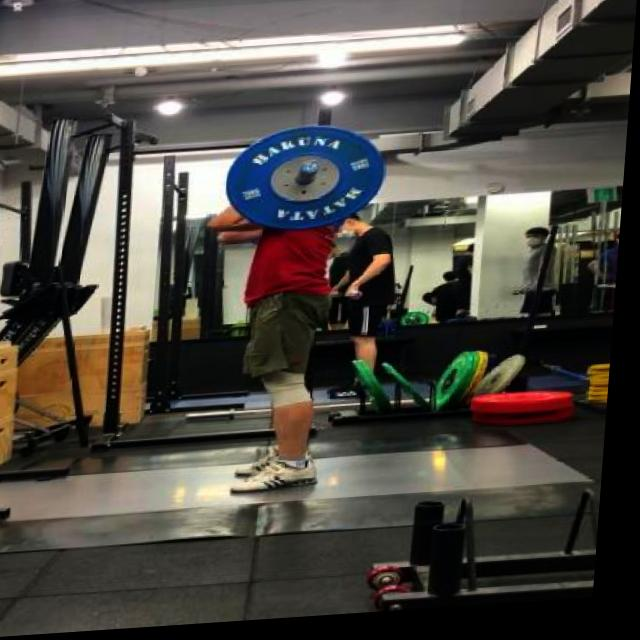barbell: (225, 118, 395, 242)
